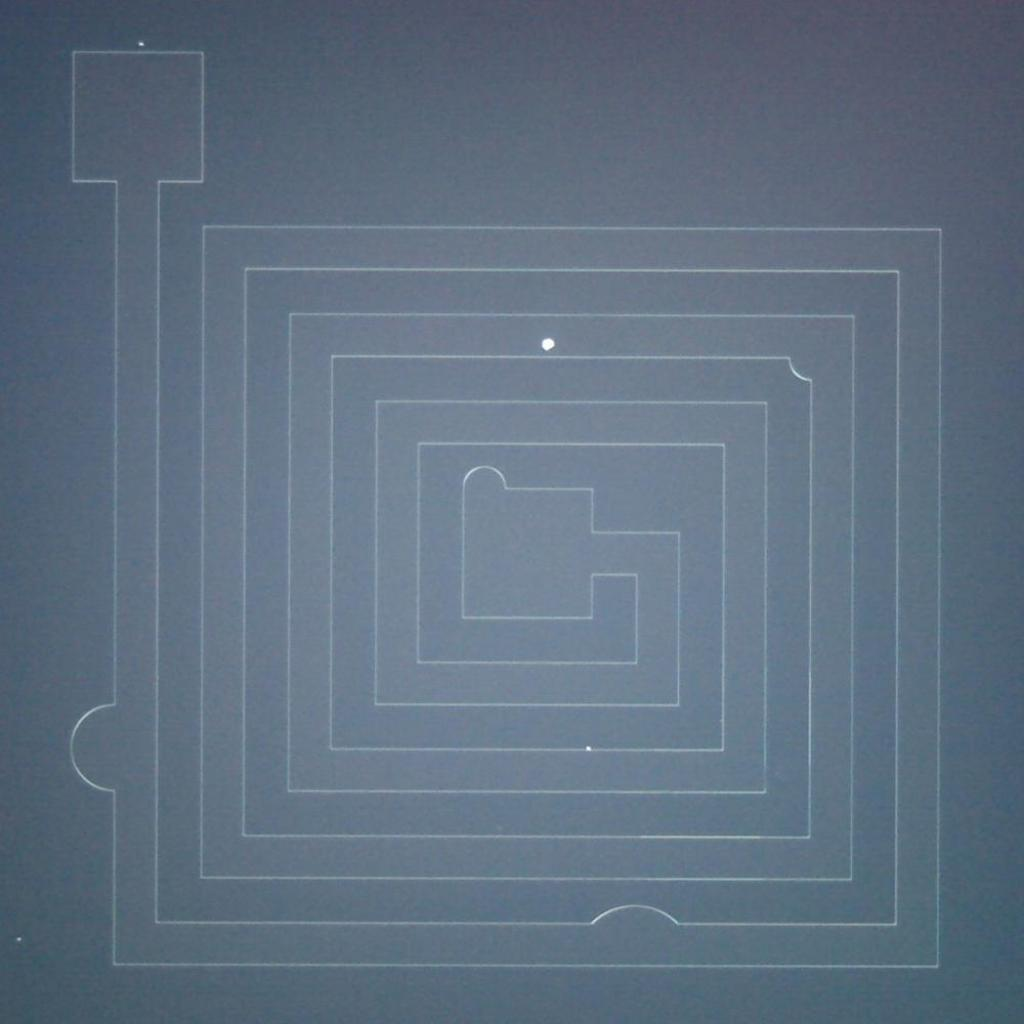dot: (542, 338, 555, 352), (586, 746, 592, 750), (140, 41, 144, 46), (18, 937, 22, 941)
